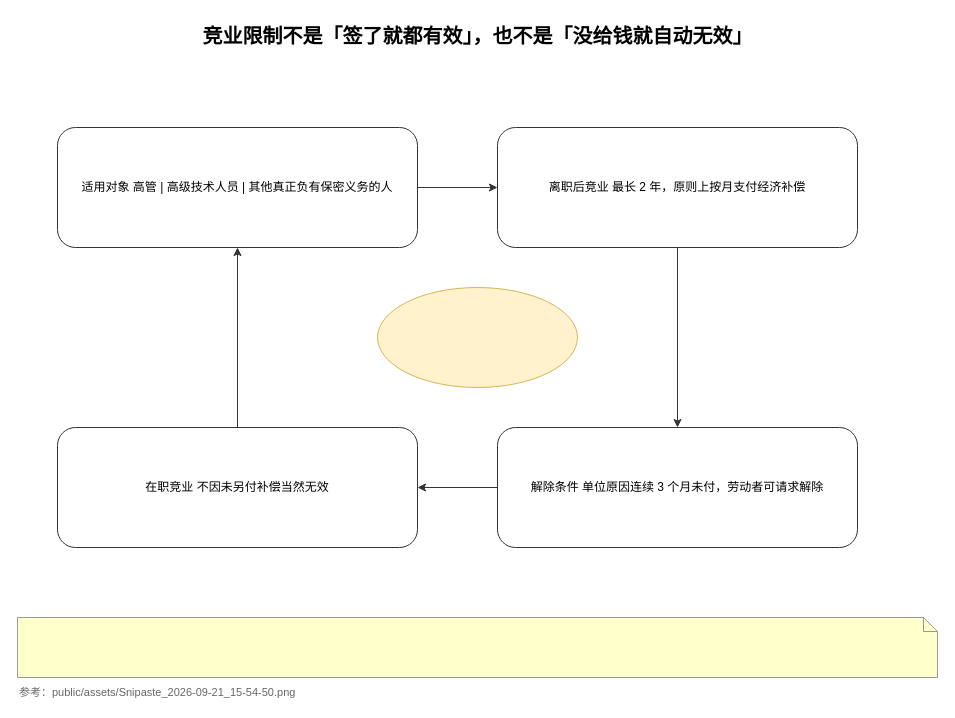
Some shapes in this 955 by 718 pixel diagram are drawn without their labels. Here are the shapes that lost their labels. From the top down, the centre of each, then its label:
At (477,337): "公司秘密 ↔ 员工择业权".
At (477,647): "先判断他到底接触了什么秘密；连续 3 个月未付可解锁".
